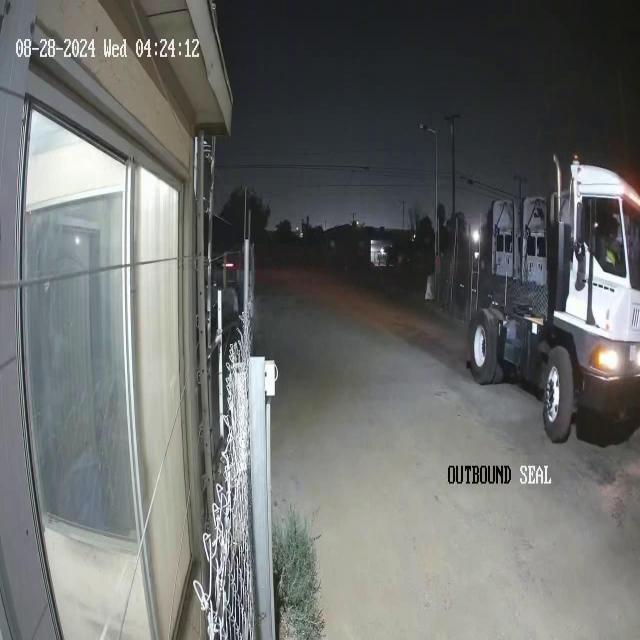TRUCK_IN: (466, 152, 639, 444)
